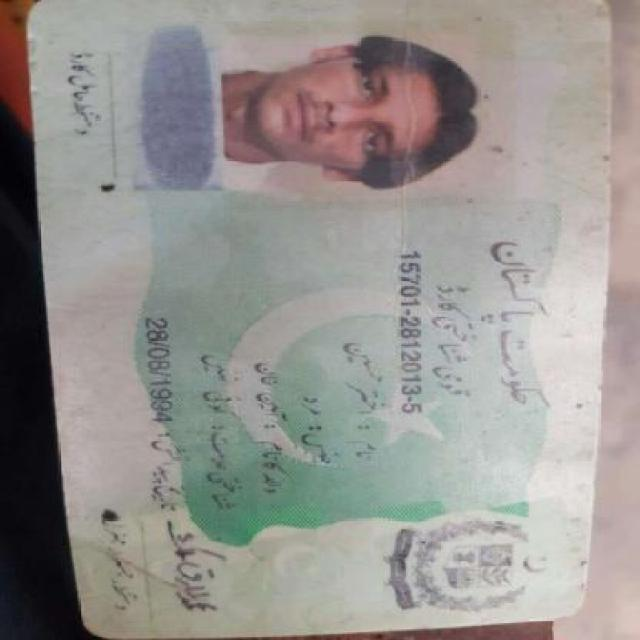Front: (26, 2, 599, 629)
